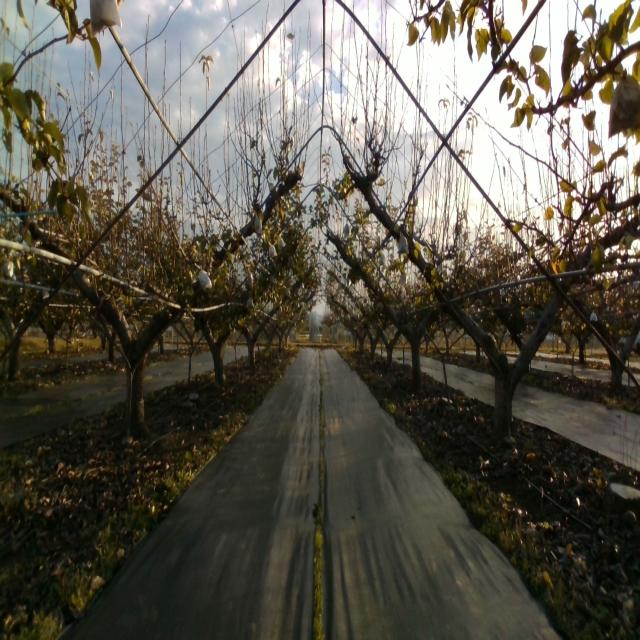pearbags: (608, 68, 640, 139), (90, 0, 122, 39), (198, 264, 212, 292), (396, 232, 409, 255)
